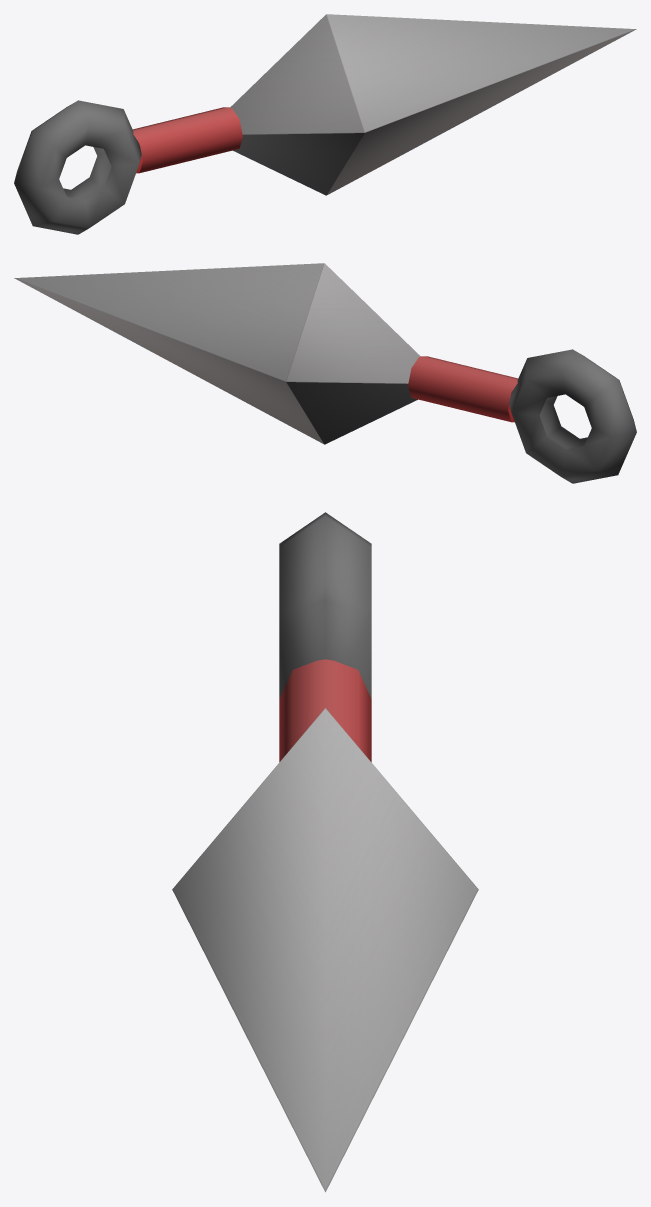
Rendered from Kunai.FBX.
3 renders of one model, top to bottom at view 1: azimuth 30°, elevation 25°; view 2: azimuth 150°, elevation 25°; view 3: azimuth 270°, elevation 25°, orthographic. The views are drawn at different scales.
Parts seen in each view (by area): view 1: Pyramid001; view 2: Pyramid001; view 3: Pyramid001.
Part boxes in pixels (x1,y1,x2,y2): Pyramid001: [14, 14, 636, 234]; Pyramid001: [14, 263, 636, 483]; Pyramid001: [172, 512, 478, 1192].
Size of the model in its own units: 95.02 by 26.47 by 20.25.
Materials: 1 (1 with a texture image).
